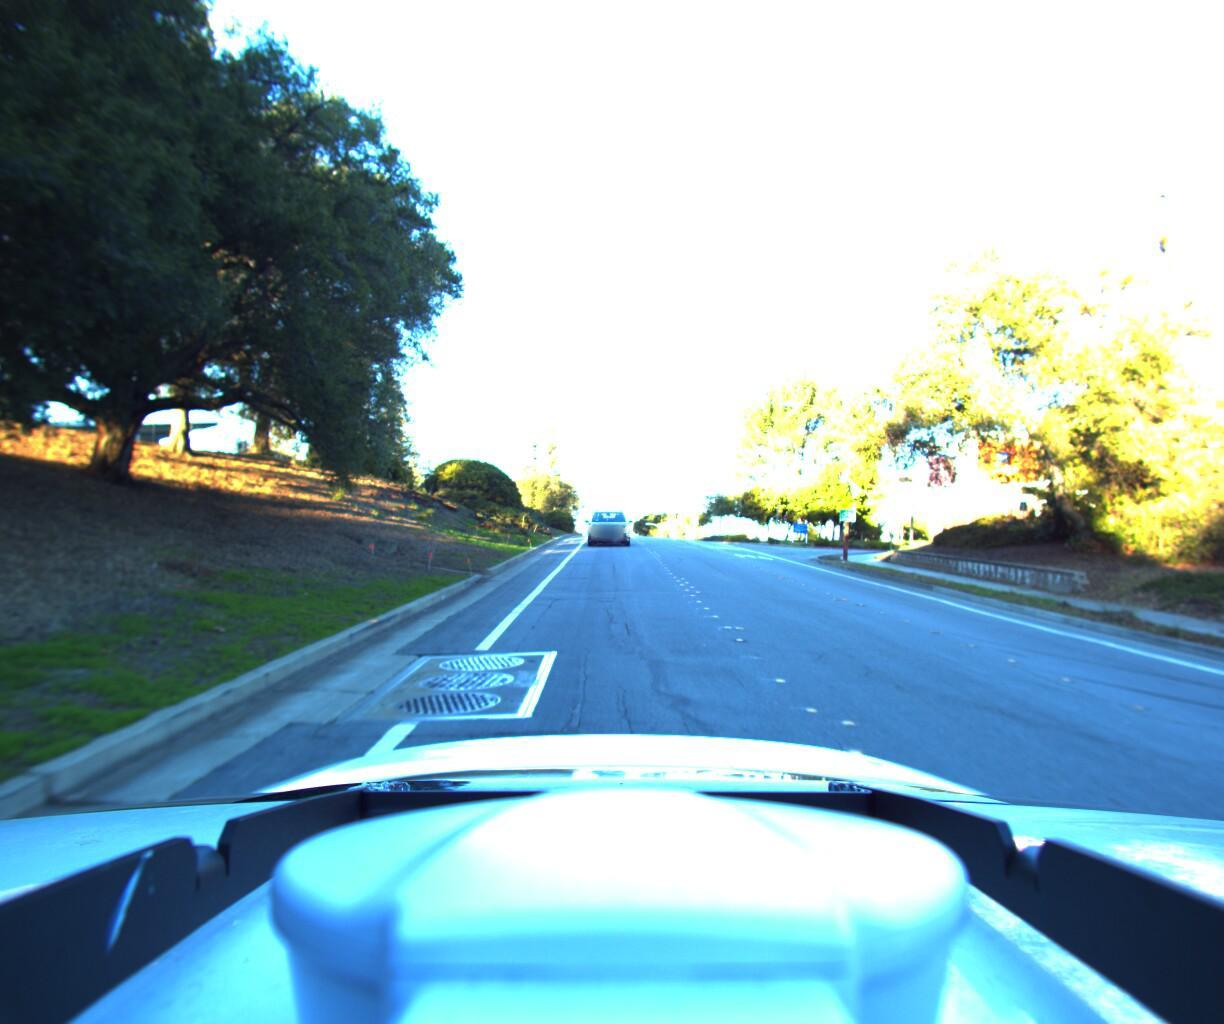car: (583, 504, 633, 551)
